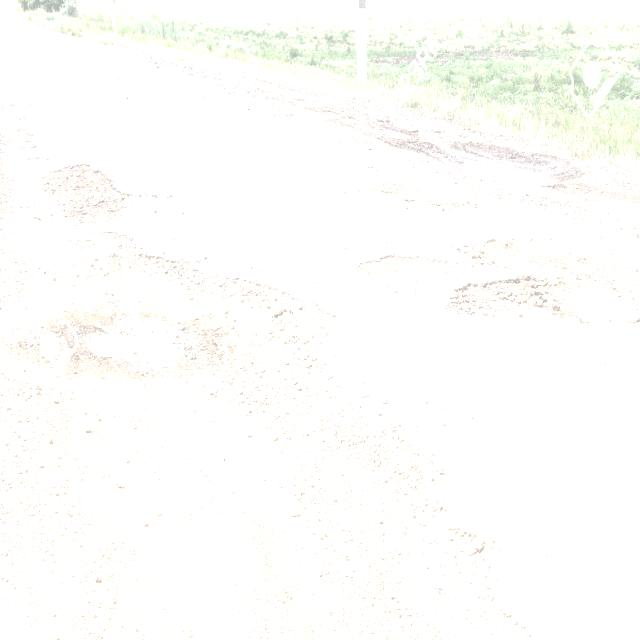Pothole: (36, 146, 344, 490), (352, 114, 640, 335)
